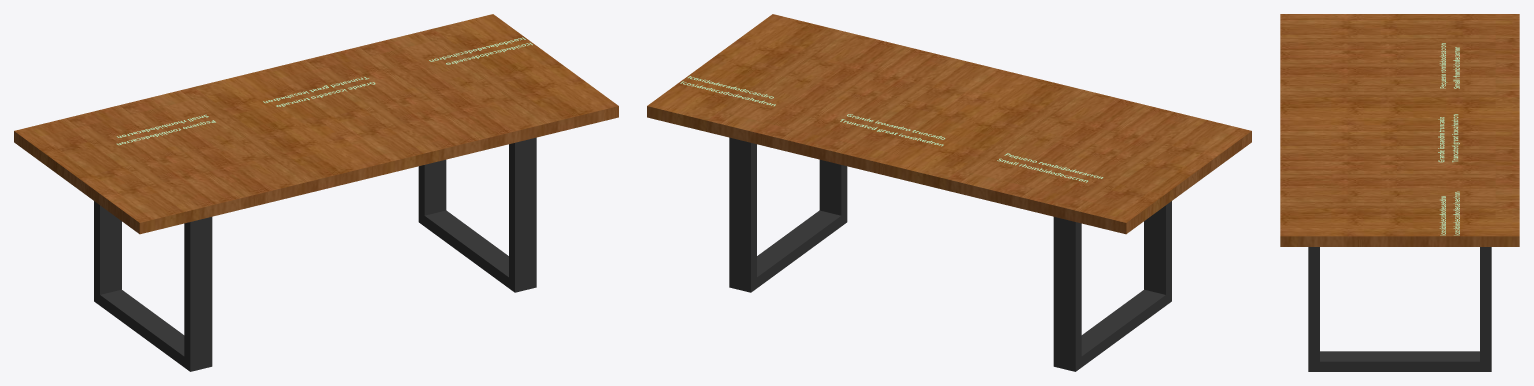
The model's file is Trees1.glb.
The picture shows the model from 3 angles, left to right: view 1: azimuth 30°, elevation 25°; view 2: azimuth 150°, elevation 25°; view 3: azimuth 270°, elevation 25°; orthographic projection. The views are drawn at different scales.
Visible parts, largest first — view 1: object 1, Composant#1 (×2); view 2: object 1, Composant#1 (×2); view 3: object 1, Composant#1, Grande icosaedro, Pequeno rombidod, Icosidodecadodec.
Boxes of the visible parts, <box> form: object 1: <box>14,14,618,234</box>; Composant#1 (×2): <box>94,137,536,371</box>; object 1: <box>647,14,1251,234</box>; Composant#1 (×2): <box>729,137,1171,371</box>; object 1: <box>1280,14,1519,246</box>; Composant#1: <box>1308,247,1491,371</box>; Grande icosaedro: <box>1438,114,1459,162</box>; Pequeno rombidod: <box>1439,43,1459,88</box>; Icosidodecadodec: <box>1439,191,1459,235</box>.
Bounding box in the file's own units: 2.2 × 0.771 × 1.
3 materials, 1 textured.
